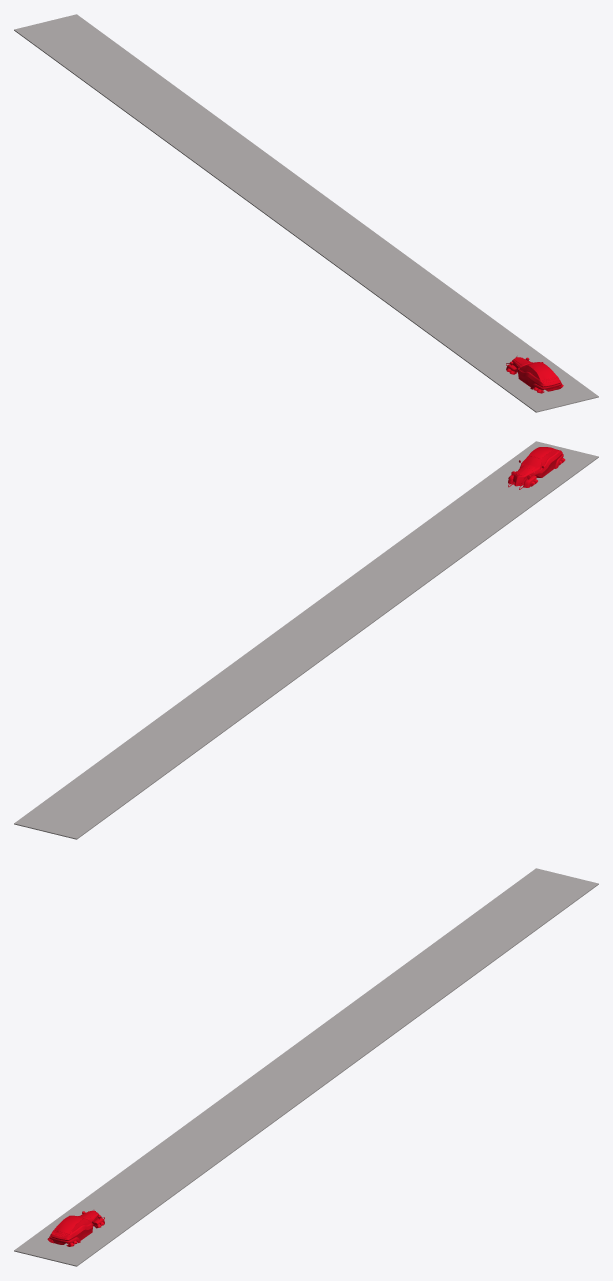
The model's file is car.glb.
3 renders of one model, top to bottom at view 1: azimuth 30°, elevation 25°; view 2: azimuth 150°, elevation 25°; view 3: azimuth 330°, elevation 25°, orthographic.
Visible parts, largest first — view 1: road, car; view 2: road, car; view 3: road, car.
Part boxes in pixels (x1,y1,x2,y2): road: (14,14,598,412); car: (506,356,563,393); road: (14,441,598,839); car: (508,447,565,489); road: (14,868,598,1266); car: (47,1210,104,1246).
Bounding box in the file's own units: 5.94 × 1.75 × 85.55.
